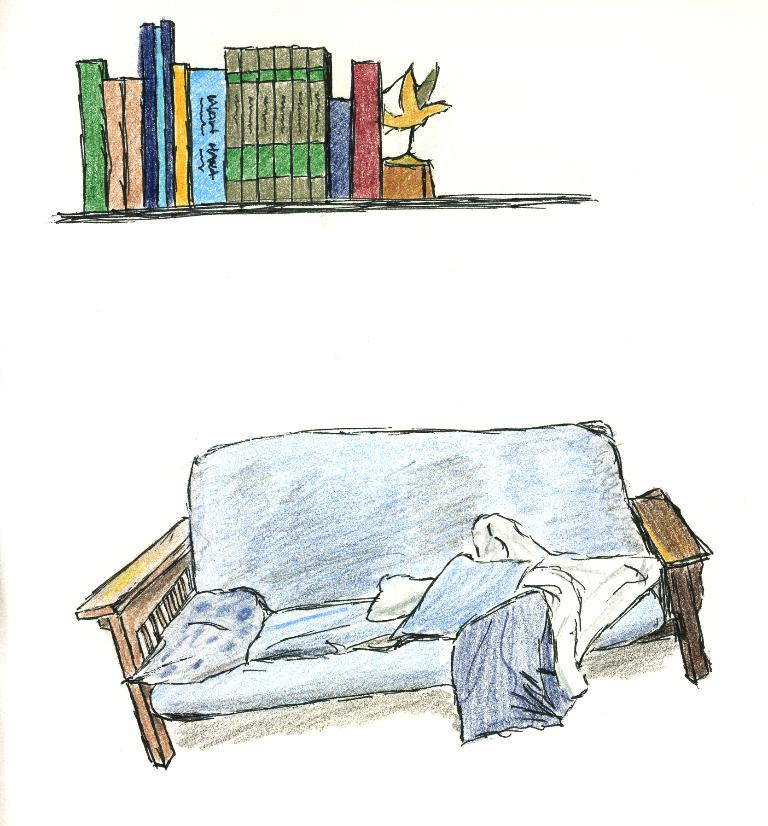book: (79, 14, 381, 209), (187, 65, 223, 204)
